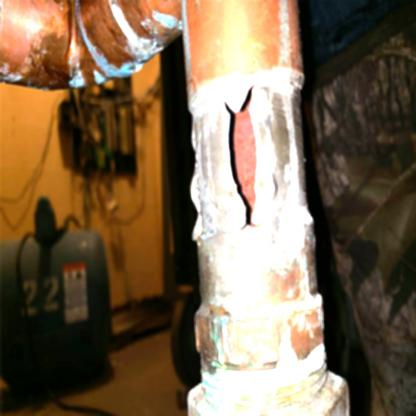burst: (221, 82, 279, 247)
